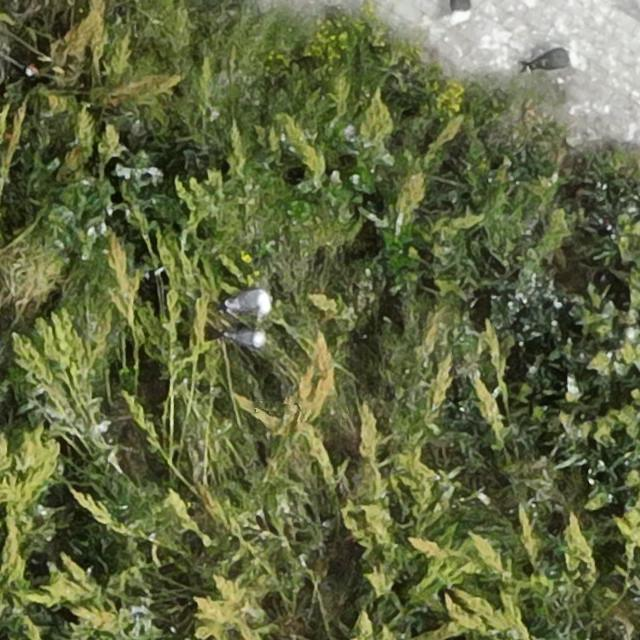umineko: (227, 290, 269, 312), (532, 48, 572, 67), (230, 329, 264, 348), (451, 0, 467, 17)
